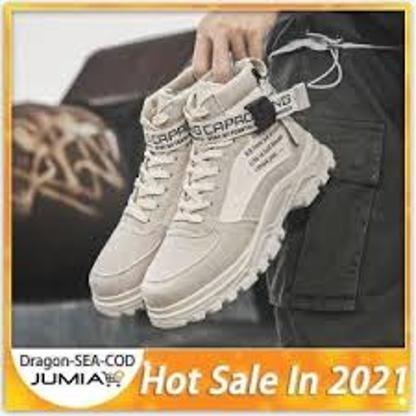not trash: (90, 61, 336, 329)
